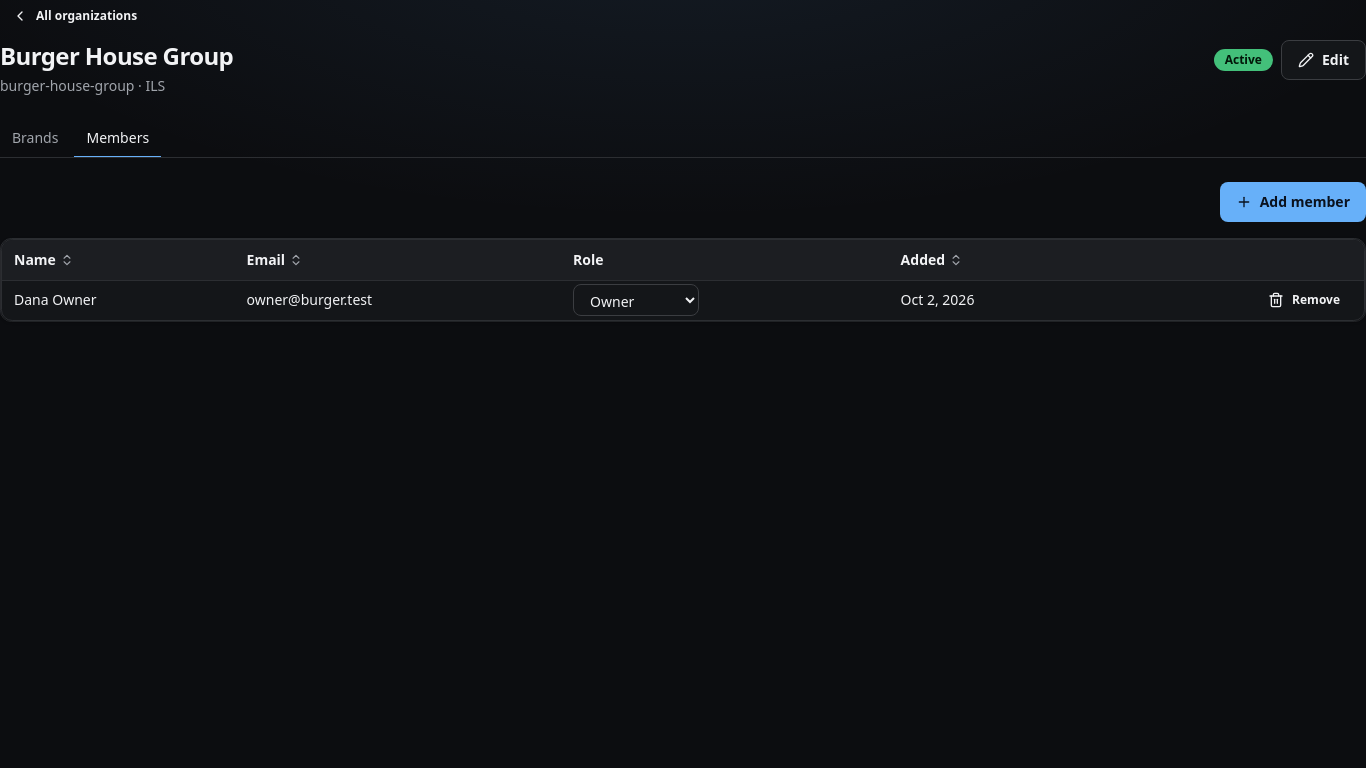
Test: OrganizationDetailPage members › explains that the last owner cannot be removed
Click the button with aria-label "Remove: Dana Owner": (1304, 300) [1256,284,1352,316]
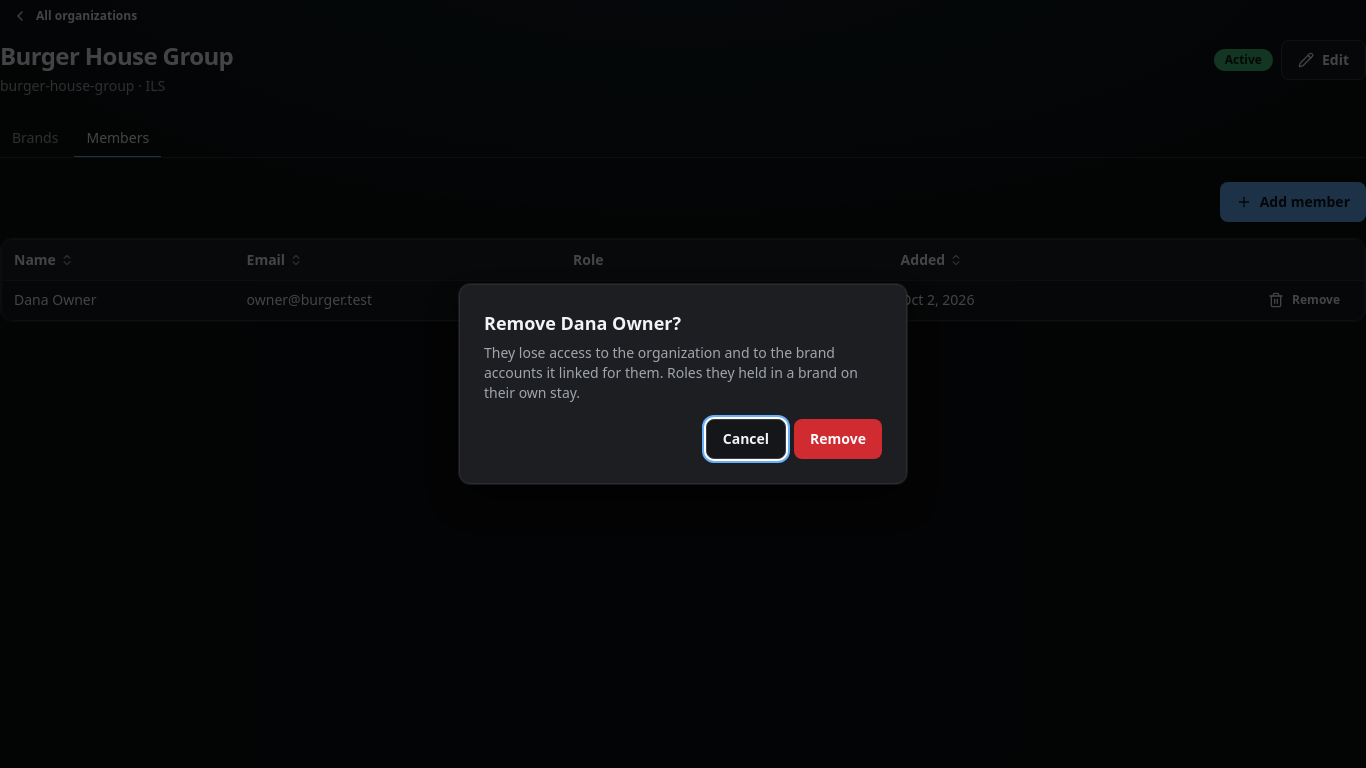
Click the button "Remove": (838, 439) [794,419,882,459]
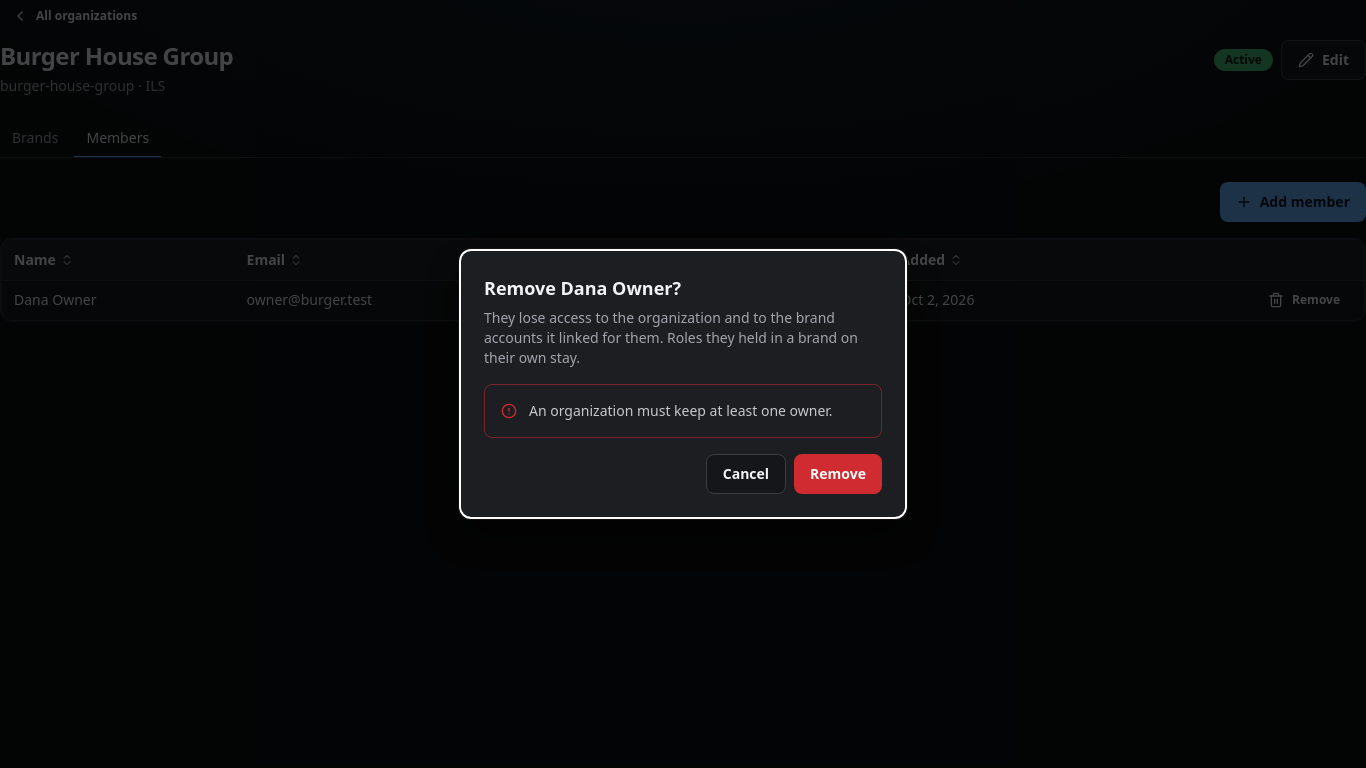
Expected: the text "An organization must keep at least one owner." is shown, [529,401,865,421]
